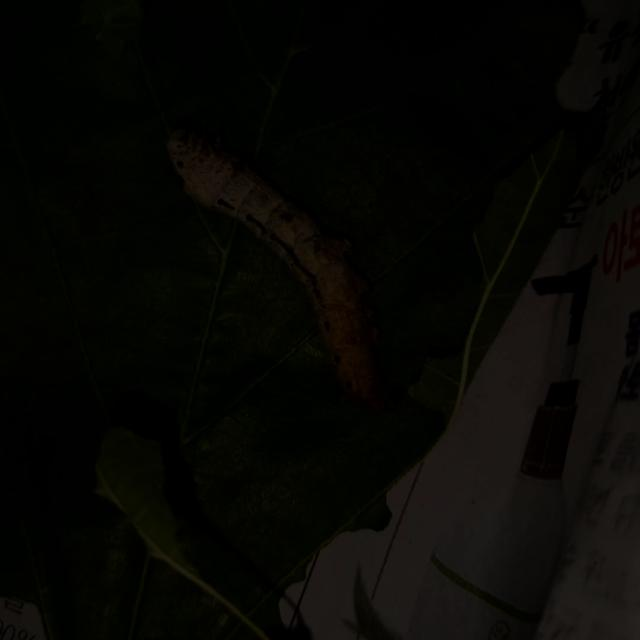Grasserie: (152, 98, 408, 422)
